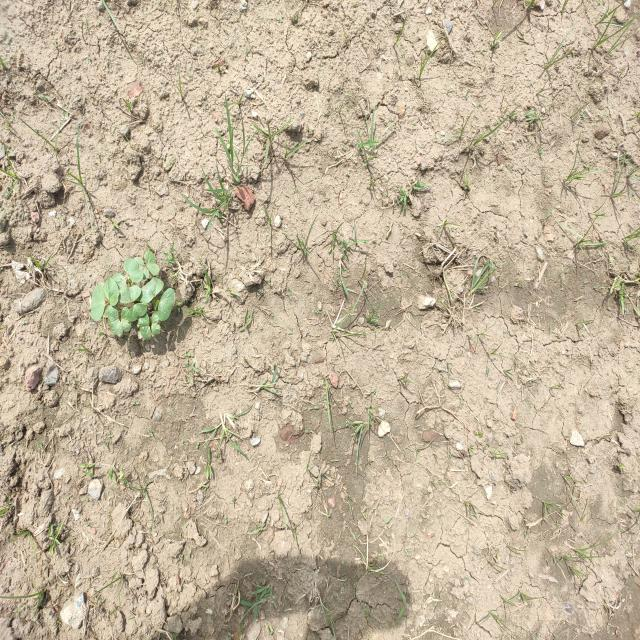seedling: (139, 277, 164, 304), (158, 288, 175, 321), (90, 284, 105, 321), (106, 305, 123, 337), (123, 258, 143, 283), (104, 278, 120, 306), (118, 285, 141, 304), (126, 303, 147, 322), (137, 312, 151, 340), (145, 251, 160, 276), (134, 257, 149, 279), (120, 306, 131, 332), (112, 273, 127, 291), (151, 311, 161, 336)
